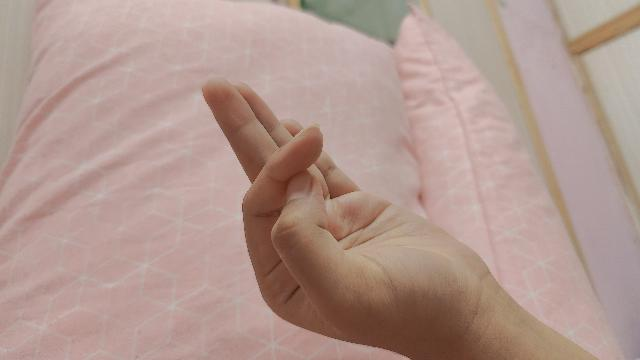aral: (202, 79, 598, 360)
